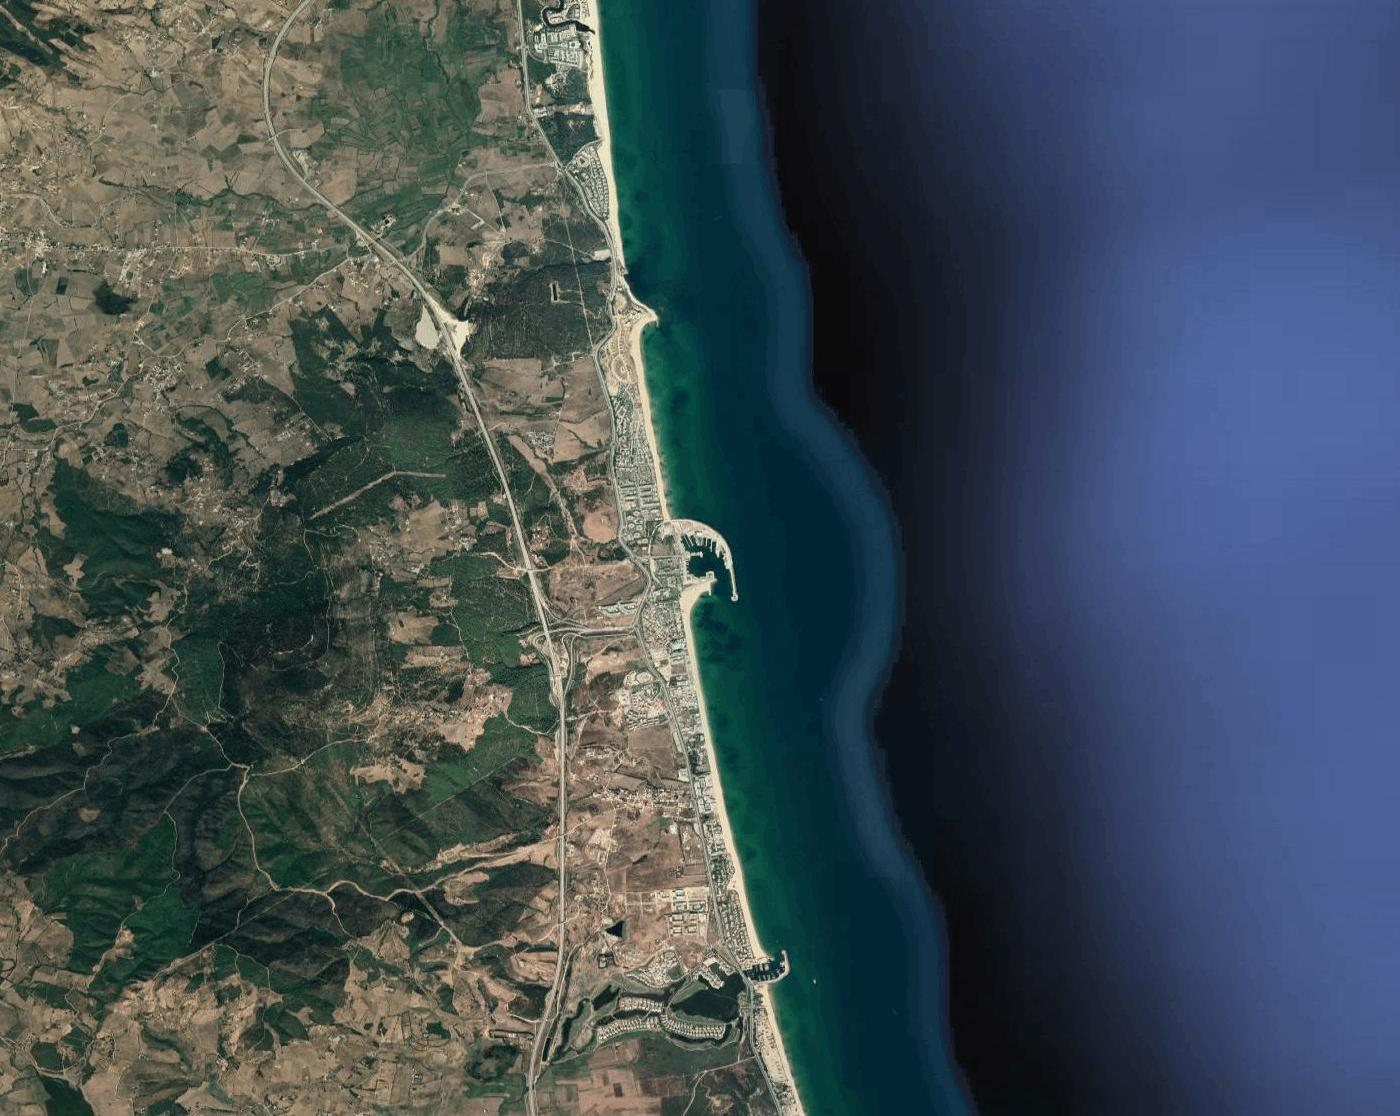harbor: (667, 506, 740, 612), (748, 941, 792, 988)
motorway: (524, 559, 571, 745), (475, 407, 532, 558), (415, 279, 477, 407), (524, 944, 565, 1116), (330, 204, 415, 277), (275, 138, 329, 208), (552, 742, 570, 943), (260, 46, 282, 140), (272, 1, 312, 49)
